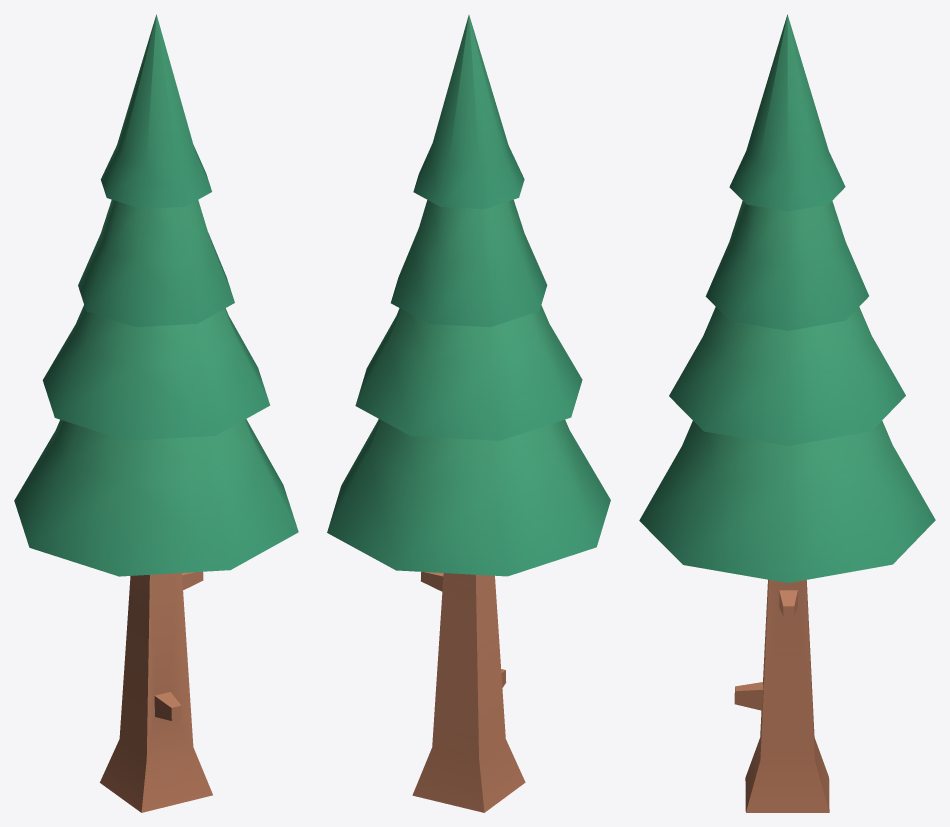
The model's file is tree-high.142_lev1.009_lev3.glb.
3 views of the same model, side by side, from view 1: azimuth 30°, elevation 25°; view 2: azimuth 150°, elevation 25°; view 3: azimuth 270°, elevation 25° (orthographic).
Parts seen in each view (by area): view 1: tree-high.142_lev1.009_lev3; view 2: tree-high.142_lev1.009_lev3; view 3: tree-high.142_lev1.009_lev3.
Boxes of the visible parts, x1,y1,x2,y2 form: tree-high.142_lev1.009_lev3: (14,14,298,812); tree-high.142_lev1.009_lev3: (327,15,610,812); tree-high.142_lev1.009_lev3: (639,14,935,812).
Size of the model in its own units: 1.3 by 3.77 by 1.3.
Materials: 1 (1 with a texture image).
